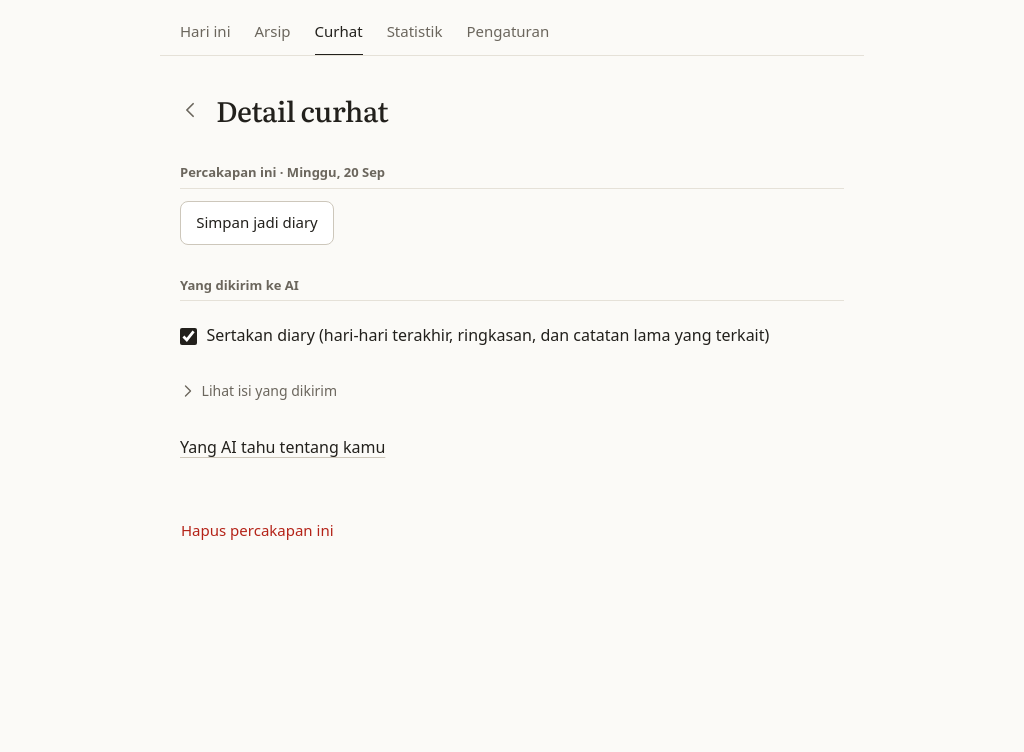
Test: an entry that already has a mood gets no mood checkbox and keeps its mood
Click the button "Simpan jadi diary" at (257, 223), box [180,201,334,245]
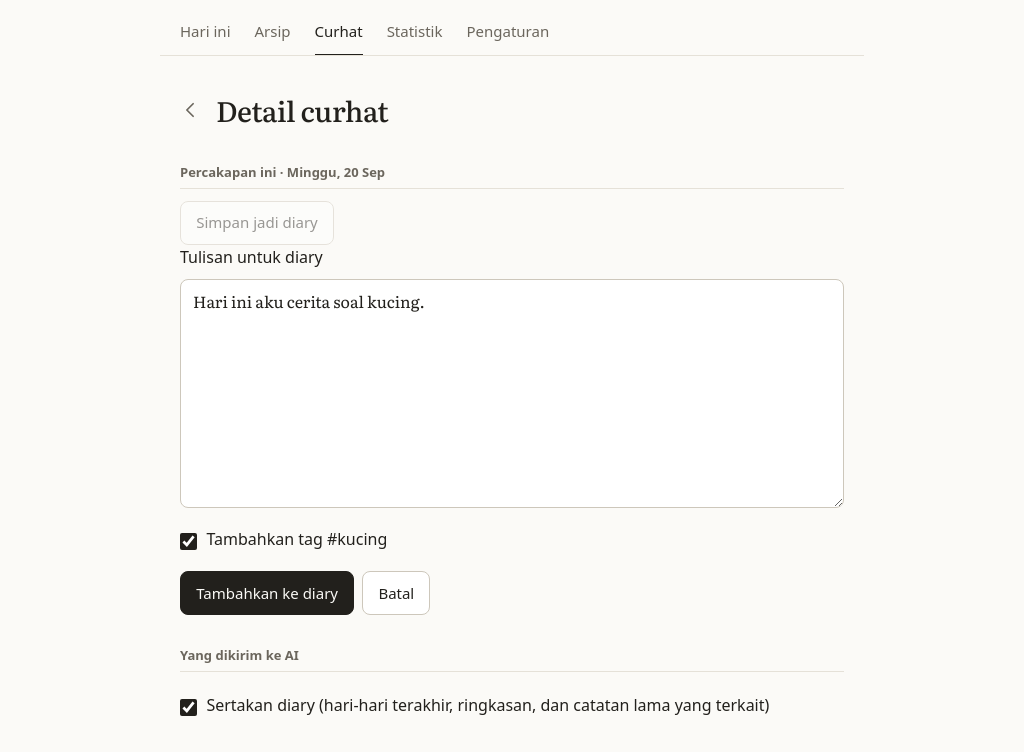
Click the button "Tambahkan ke diary" at (267, 593), box [180,571,354,615]
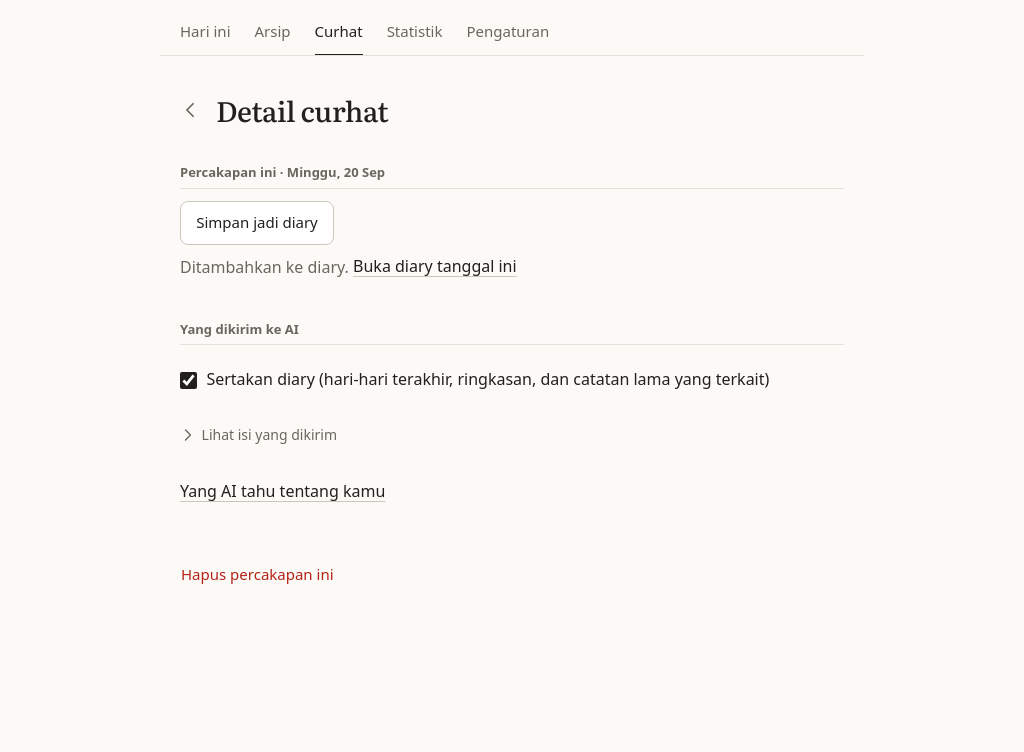
Result: the message shows "Ditambahkan ke diary." at [180,255,349,277]
